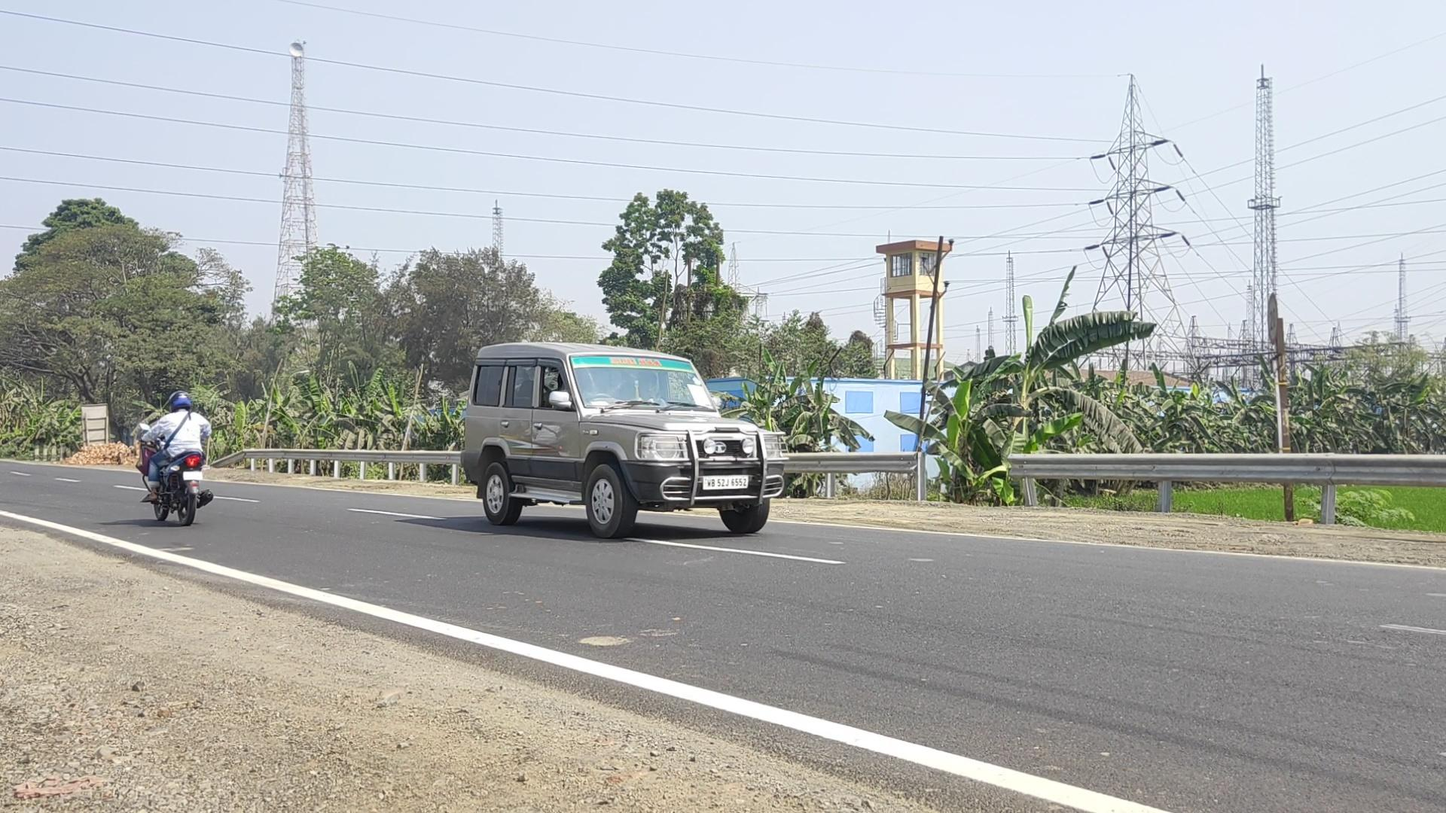bike: (139, 391, 214, 527)
car: (462, 342, 788, 538)
